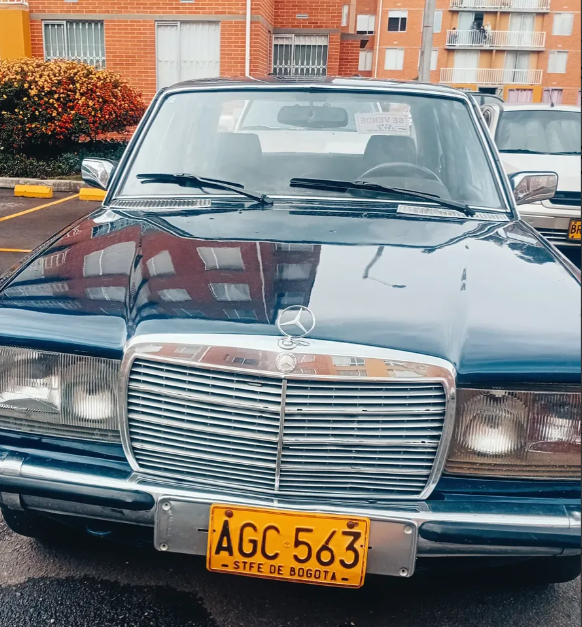placa: (210, 503, 368, 593)
